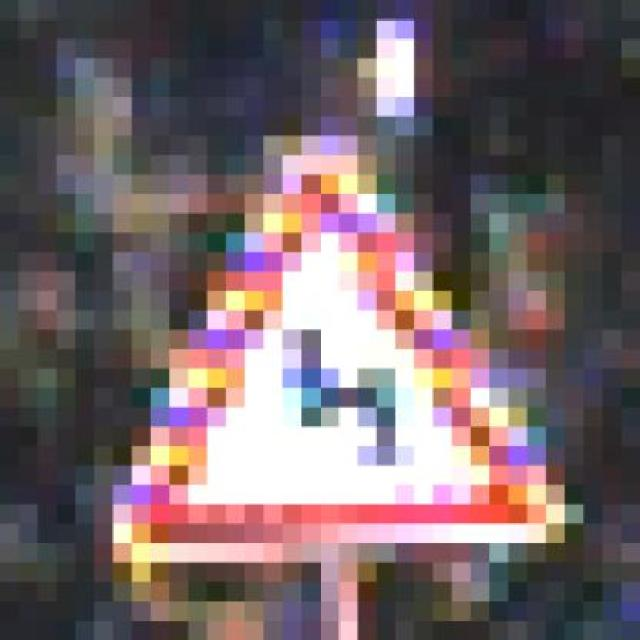Left Zig Zag Traffic: (93, 106, 582, 591)
